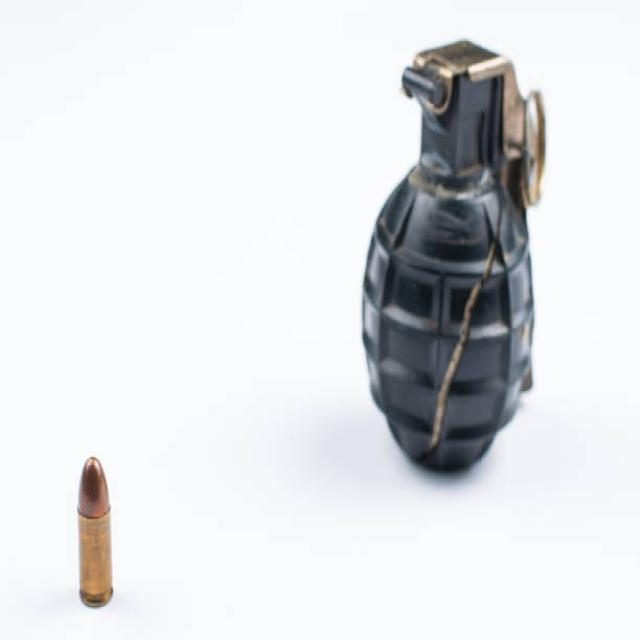grenade: (356, 34, 558, 483)
